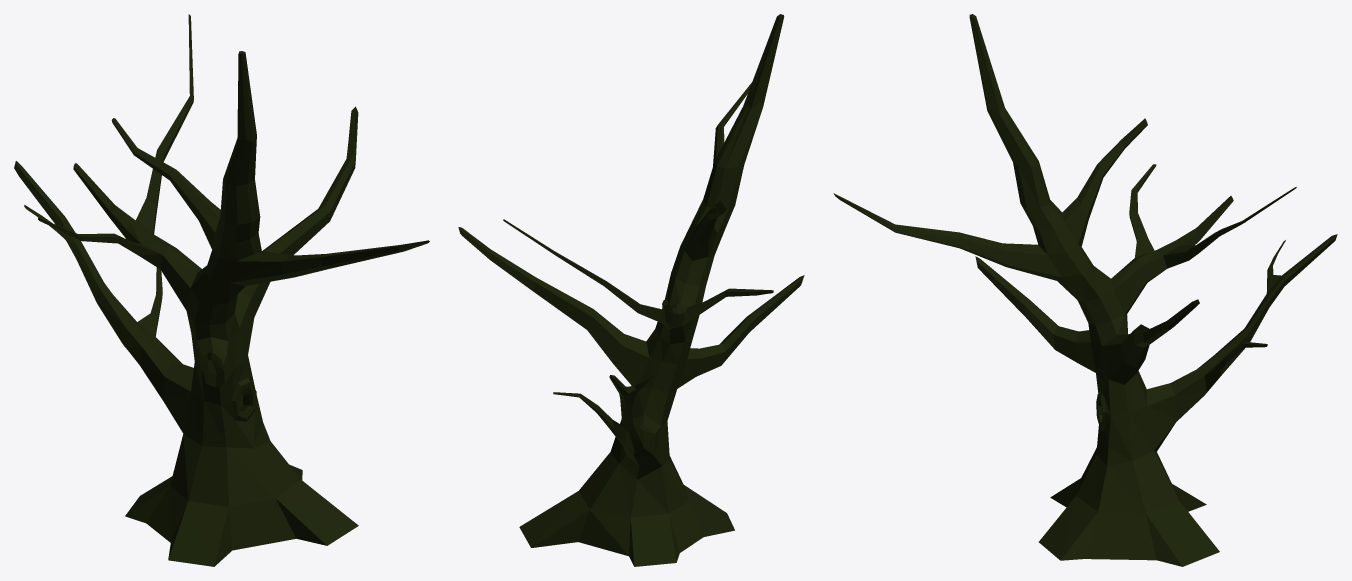
Rendered from deadtree_treese_0_lev1.glb.
3 views of the same model, side by side, from view 1: azimuth 30°, elevation 25°; view 2: azimuth 150°, elevation 25°; view 3: azimuth 270°, elevation 25° (orthographic). The views are drawn at different scales.
Visible parts, largest first — view 1: deadtree_treese_0_lev1; view 2: deadtree_treese_0_lev1; view 3: deadtree_treese_0_lev1.
Boxes of the visible parts, x1=… form: deadtree_treese_0_lev1: x1=14, y1=14, x2=429, y2=566; deadtree_treese_0_lev1: x1=458, y1=14, x2=804, y2=566; deadtree_treese_0_lev1: x1=833, y1=14, x2=1337, y2=566.
Size of the model in its own units: 3.22 by 4.97 by 4.78.
